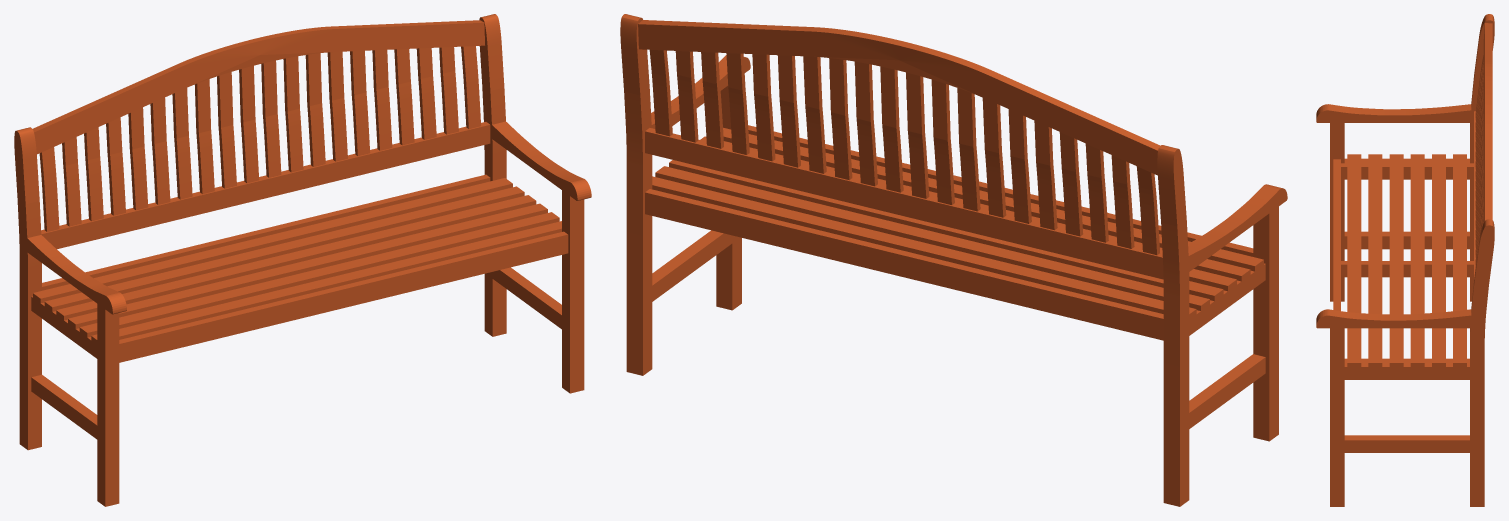
3 renders of one model, left to right at view 1: azimuth 30°, elevation 25°; view 2: azimuth 150°, elevation 25°; view 3: azimuth 270°, elevation 25°, orthographic. The views are drawn at different scales.
Visible parts, largest first — view 1: bench; view 2: bench; view 3: bench.
Boxes of the visible parts, bbox=[...] form: bench: bbox=[14, 14, 591, 506]; bench: bbox=[620, 14, 1287, 506]; bench: bbox=[1316, 14, 1494, 506].
Size of the model in its own units: 190 by 130 by 67.61.
